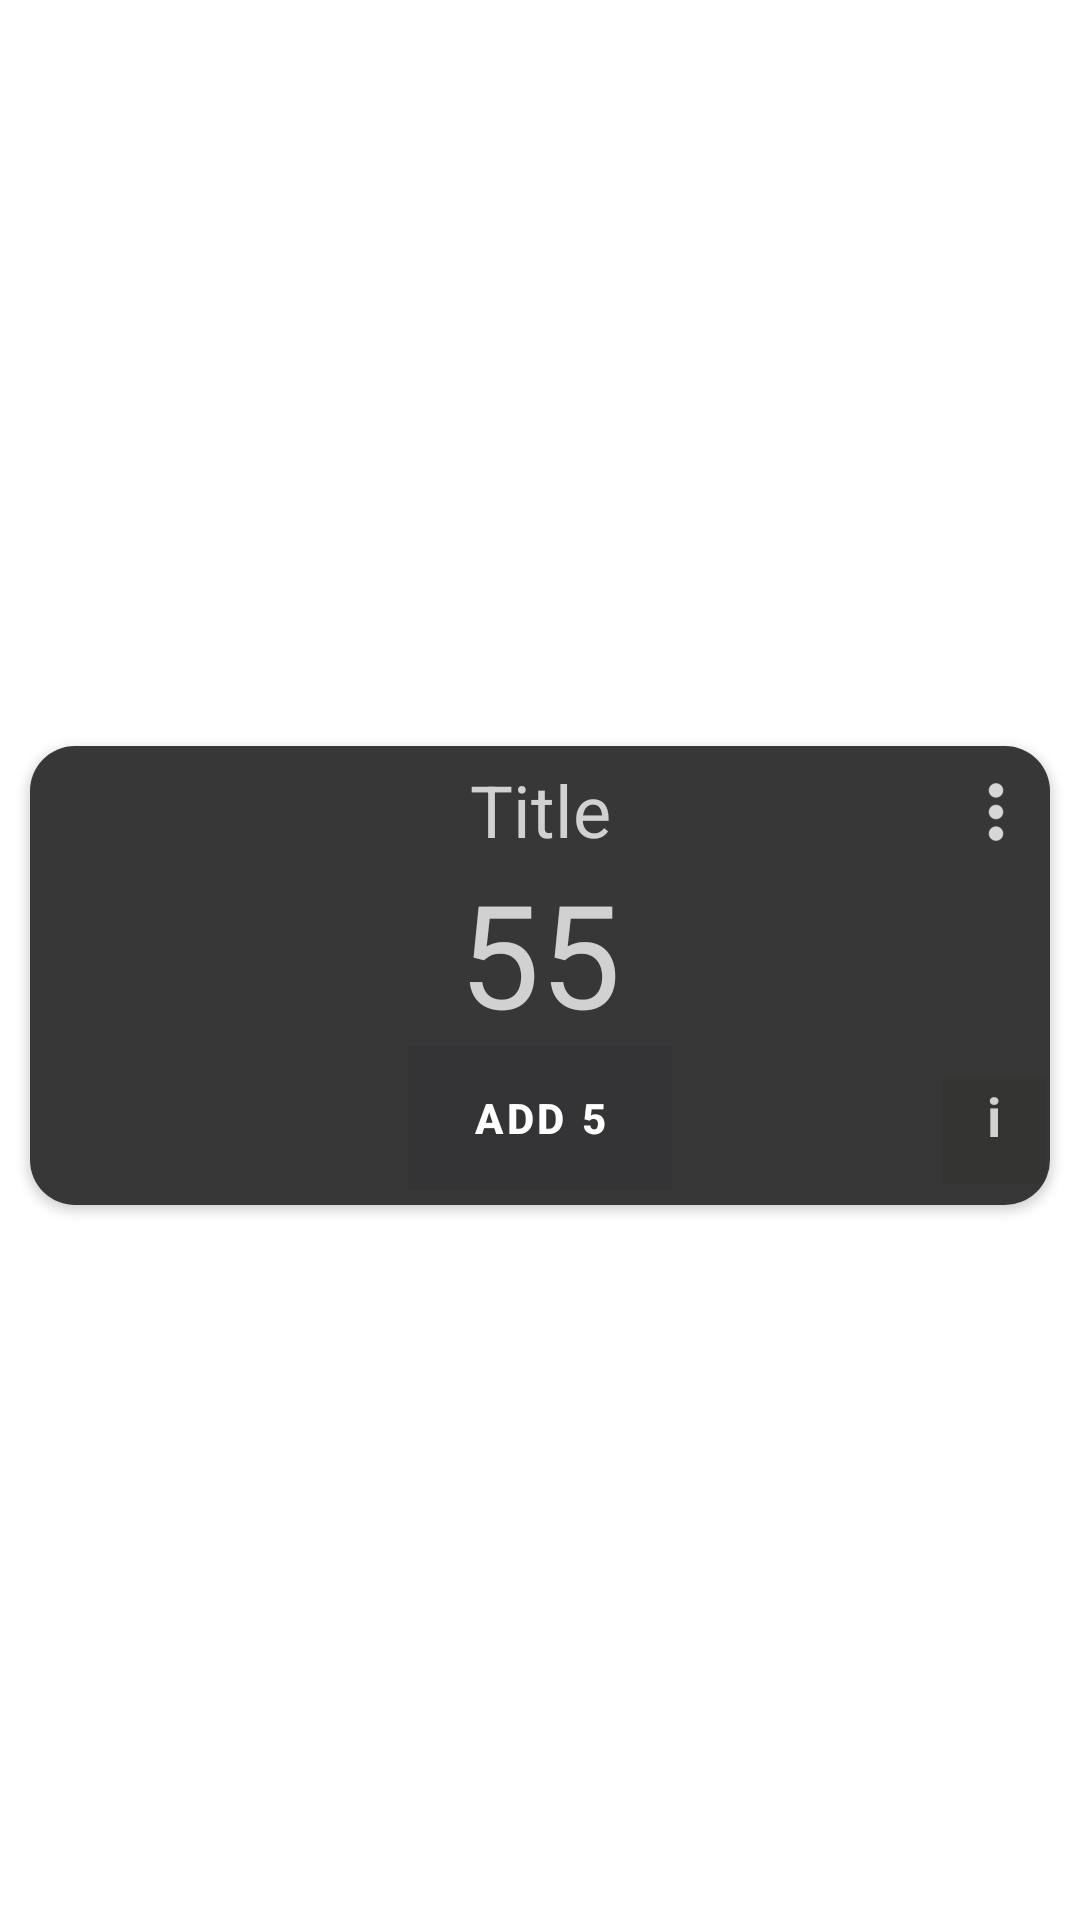

Named icons in this screenshot (1080 × 1920) and their centers, (x=x, y=y):
dots: (x=996, y=812)
